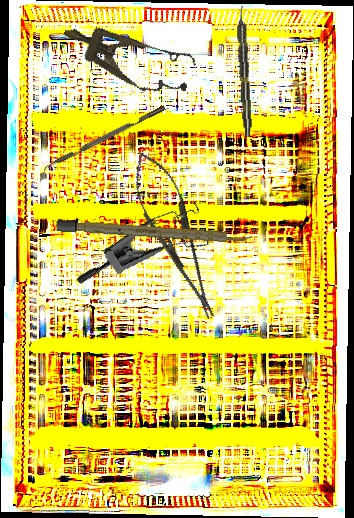Chopper: (37, 105, 169, 178)
Handpiece: (235, 5, 254, 138)
Needle Holder: (119, 143, 231, 327)
Scalpel Handle: (55, 219, 253, 245)
Speculum: (74, 181, 223, 328), (54, 6, 200, 106)
